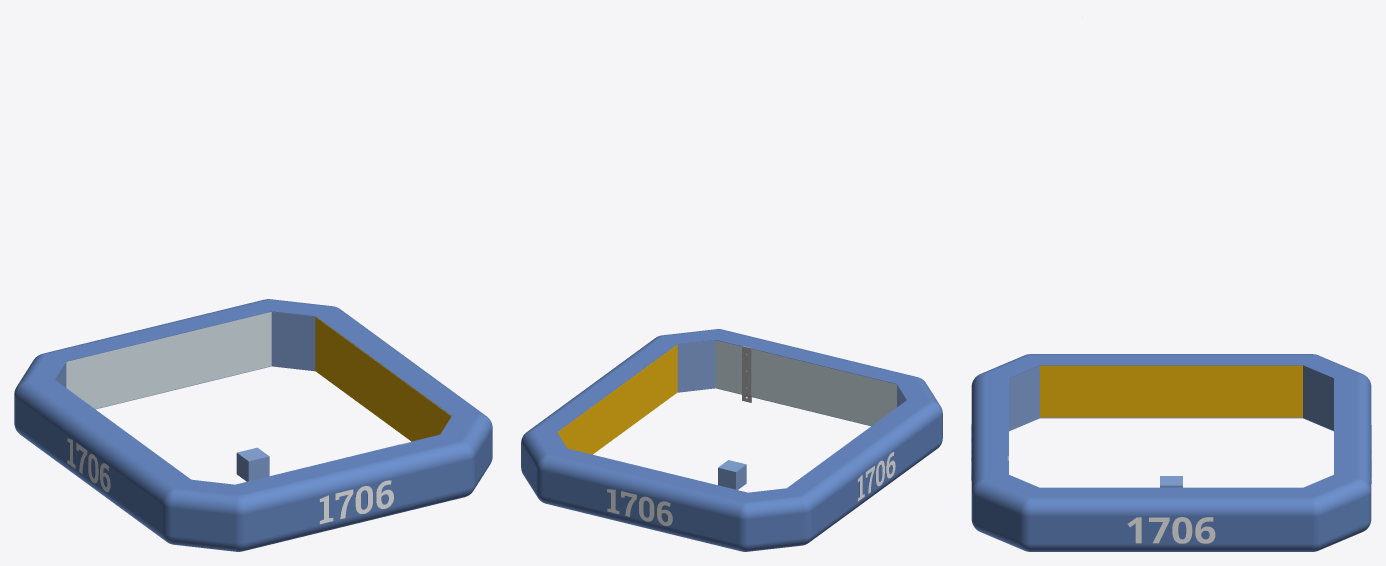
Rendered from bumpers.fbx.
3 views of the same model, side by side, from view 1: azimuth 30°, elevation 25°; view 2: azimuth 150°, elevation 25°; view 3: azimuth 270°, elevation 25° (orthographic). The views are drawn at different scales.
Parts seen in each view (by area): view 1: CU-BUMPERS; view 2: CU-BUMPERS; view 3: CU-BUMPERS.
Part boxes in pixels (left/top/right/bottom): CU-BUMPERS: left=14, top=299, right=492, bottom=551; CU-BUMPERS: left=521, top=329, right=942, bottom=551; CU-BUMPERS: left=971, top=354, right=1371, bottom=551.
Size of the model in its own units: 80.33 by 117 by 87.95.
